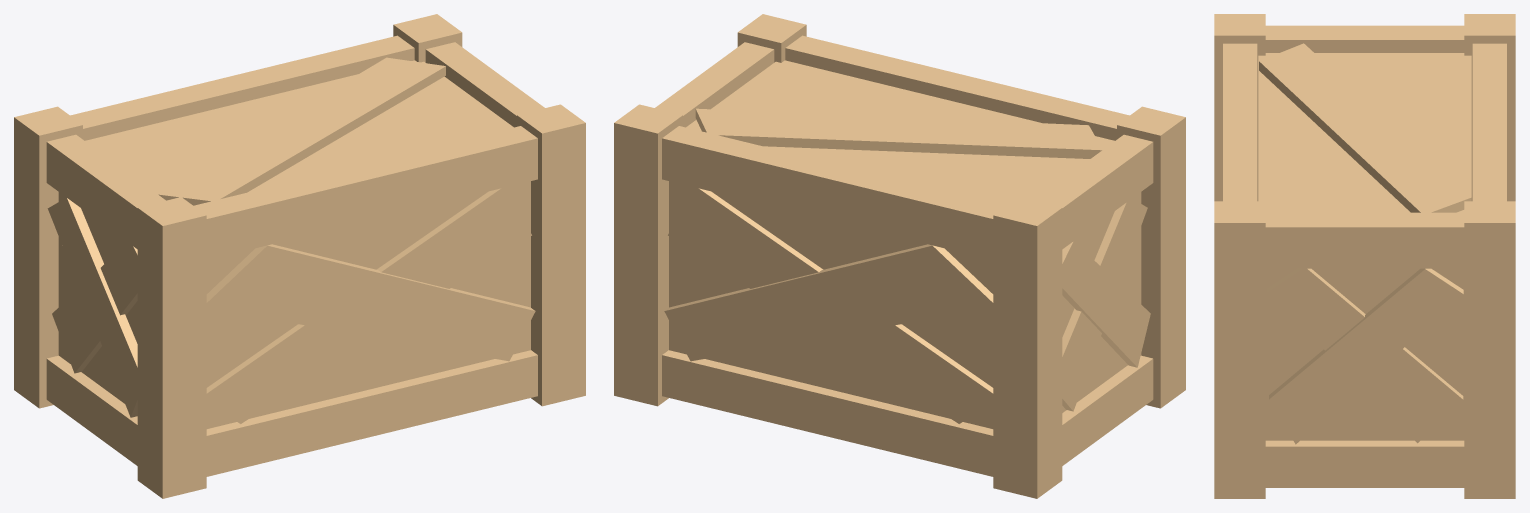
3 views of the same model, side by side, from view 1: azimuth 30°, elevation 25°; view 2: azimuth 150°, elevation 25°; view 3: azimuth 270°, elevation 25° (orthographic).
Visible parts, largest first — view 1: Box_Big_low; view 2: Box_Big_low; view 3: Box_Big_low.
Boxes of the visible parts, left/top/right/bottom form: Box_Big_low: left=14, top=14, right=585, bottom=498; Box_Big_low: left=614, top=14, right=1185, bottom=498; Box_Big_low: left=1214, top=14, right=1515, bottom=498.
Size of the model in its own units: 47.48 by 29.25 by 28.91.
